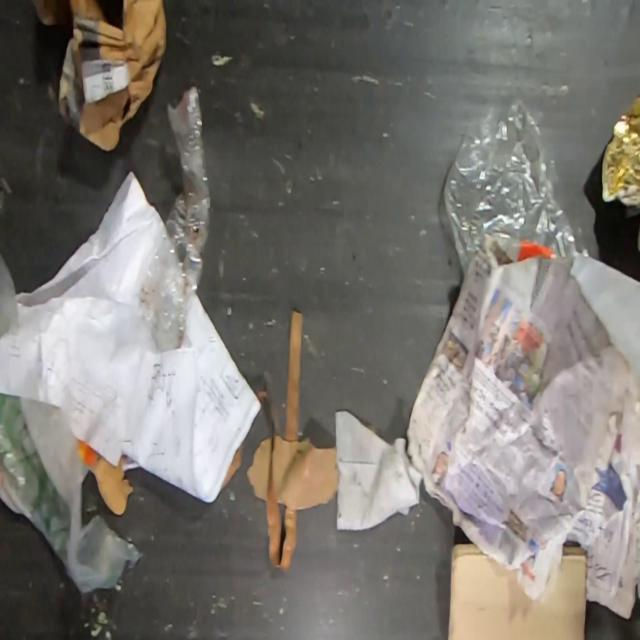cardboard: (28, 0, 168, 160), (446, 544, 587, 639), (88, 452, 136, 518)
soft_plastic: (0, 252, 143, 594), (441, 99, 588, 277), (138, 84, 212, 353)
